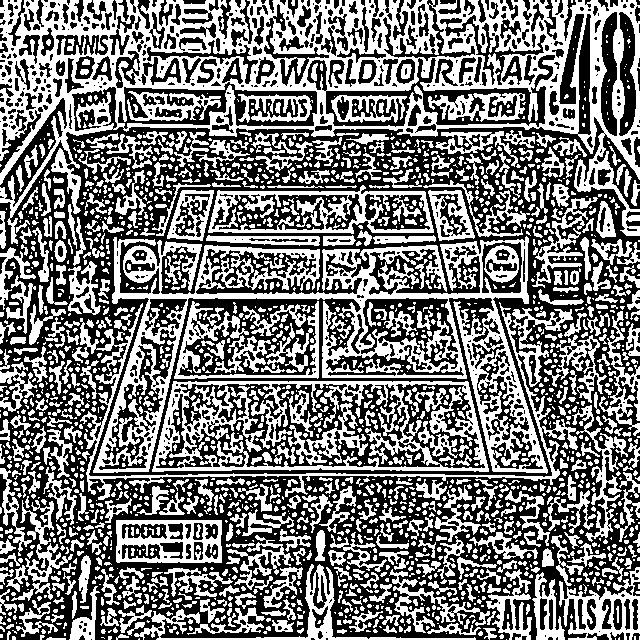left side: (91, 189, 216, 474), (426, 190, 550, 474)
player: (344, 253, 390, 354), (344, 184, 376, 266)
